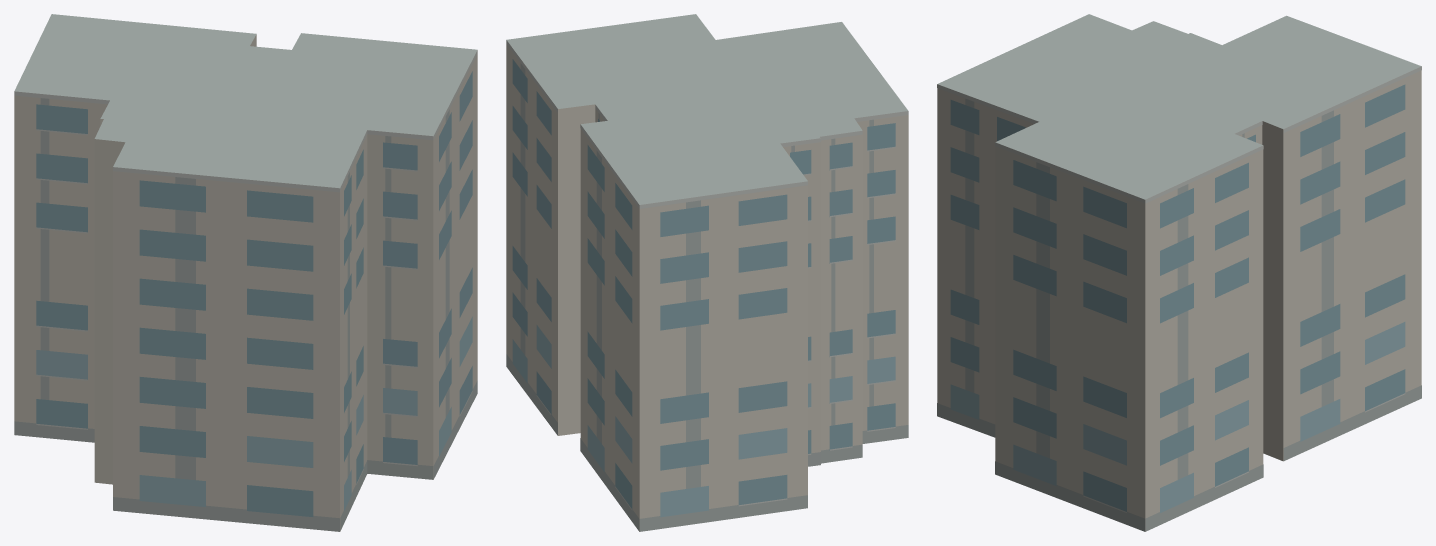
File: survey-upis-32711259.glb
The picture shows the model from 3 angles, left to right: view 1: azimuth 30°, elevation 25°; view 2: azimuth 150°, elevation 25°; view 3: azimuth 270°, elevation 25°; orthographic projection. The views are drawn at different scales.
Visible parts, largest first — view 1: survey-upis-32711259.tmp; view 2: survey-upis-32711259.tmp; view 3: survey-upis-32711259.tmp.
Boxes of the visible parts, x1,y1,x2,y2 form: survey-upis-32711259.tmp: [14, 14, 477, 531]; survey-upis-32711259.tmp: [506, 14, 908, 531]; survey-upis-32711259.tmp: [937, 14, 1421, 531].
Size of the model in its own units: 24.17 by 20.15 by 26.65.
